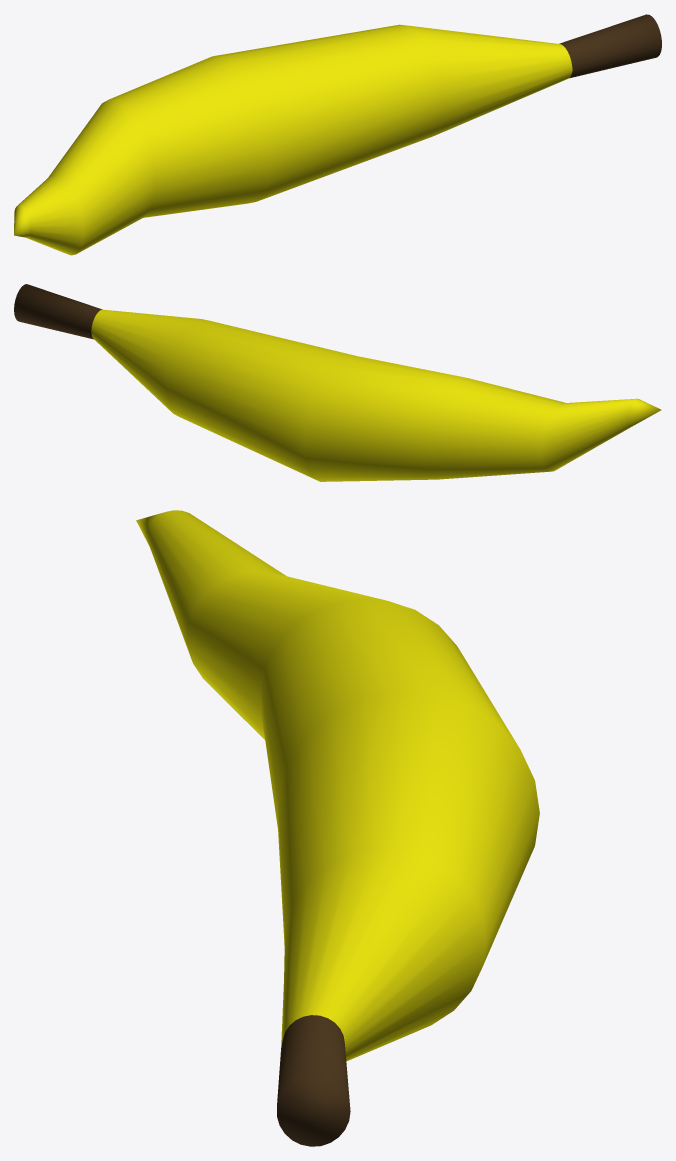
File: banan.fbx
The picture shows the model from 3 angles, top to bottom: view 1: azimuth 30°, elevation 25°; view 2: azimuth 150°, elevation 25°; view 3: azimuth 270°, elevation 25°; orthographic projection. The views are drawn at different scales.
Parts seen in each view (by area): view 1: Kula; view 2: Kula; view 3: Kula.
Part boxes in pixels (x1=…): Kula: x1=14, y1=14, x2=661, y2=255; Kula: x1=14, y1=284, x2=661, y2=481; Kula: x1=136, y1=510, x2=539, y2=1146.
Bounding box in the file's own units: 2233 × 427 × 657.
